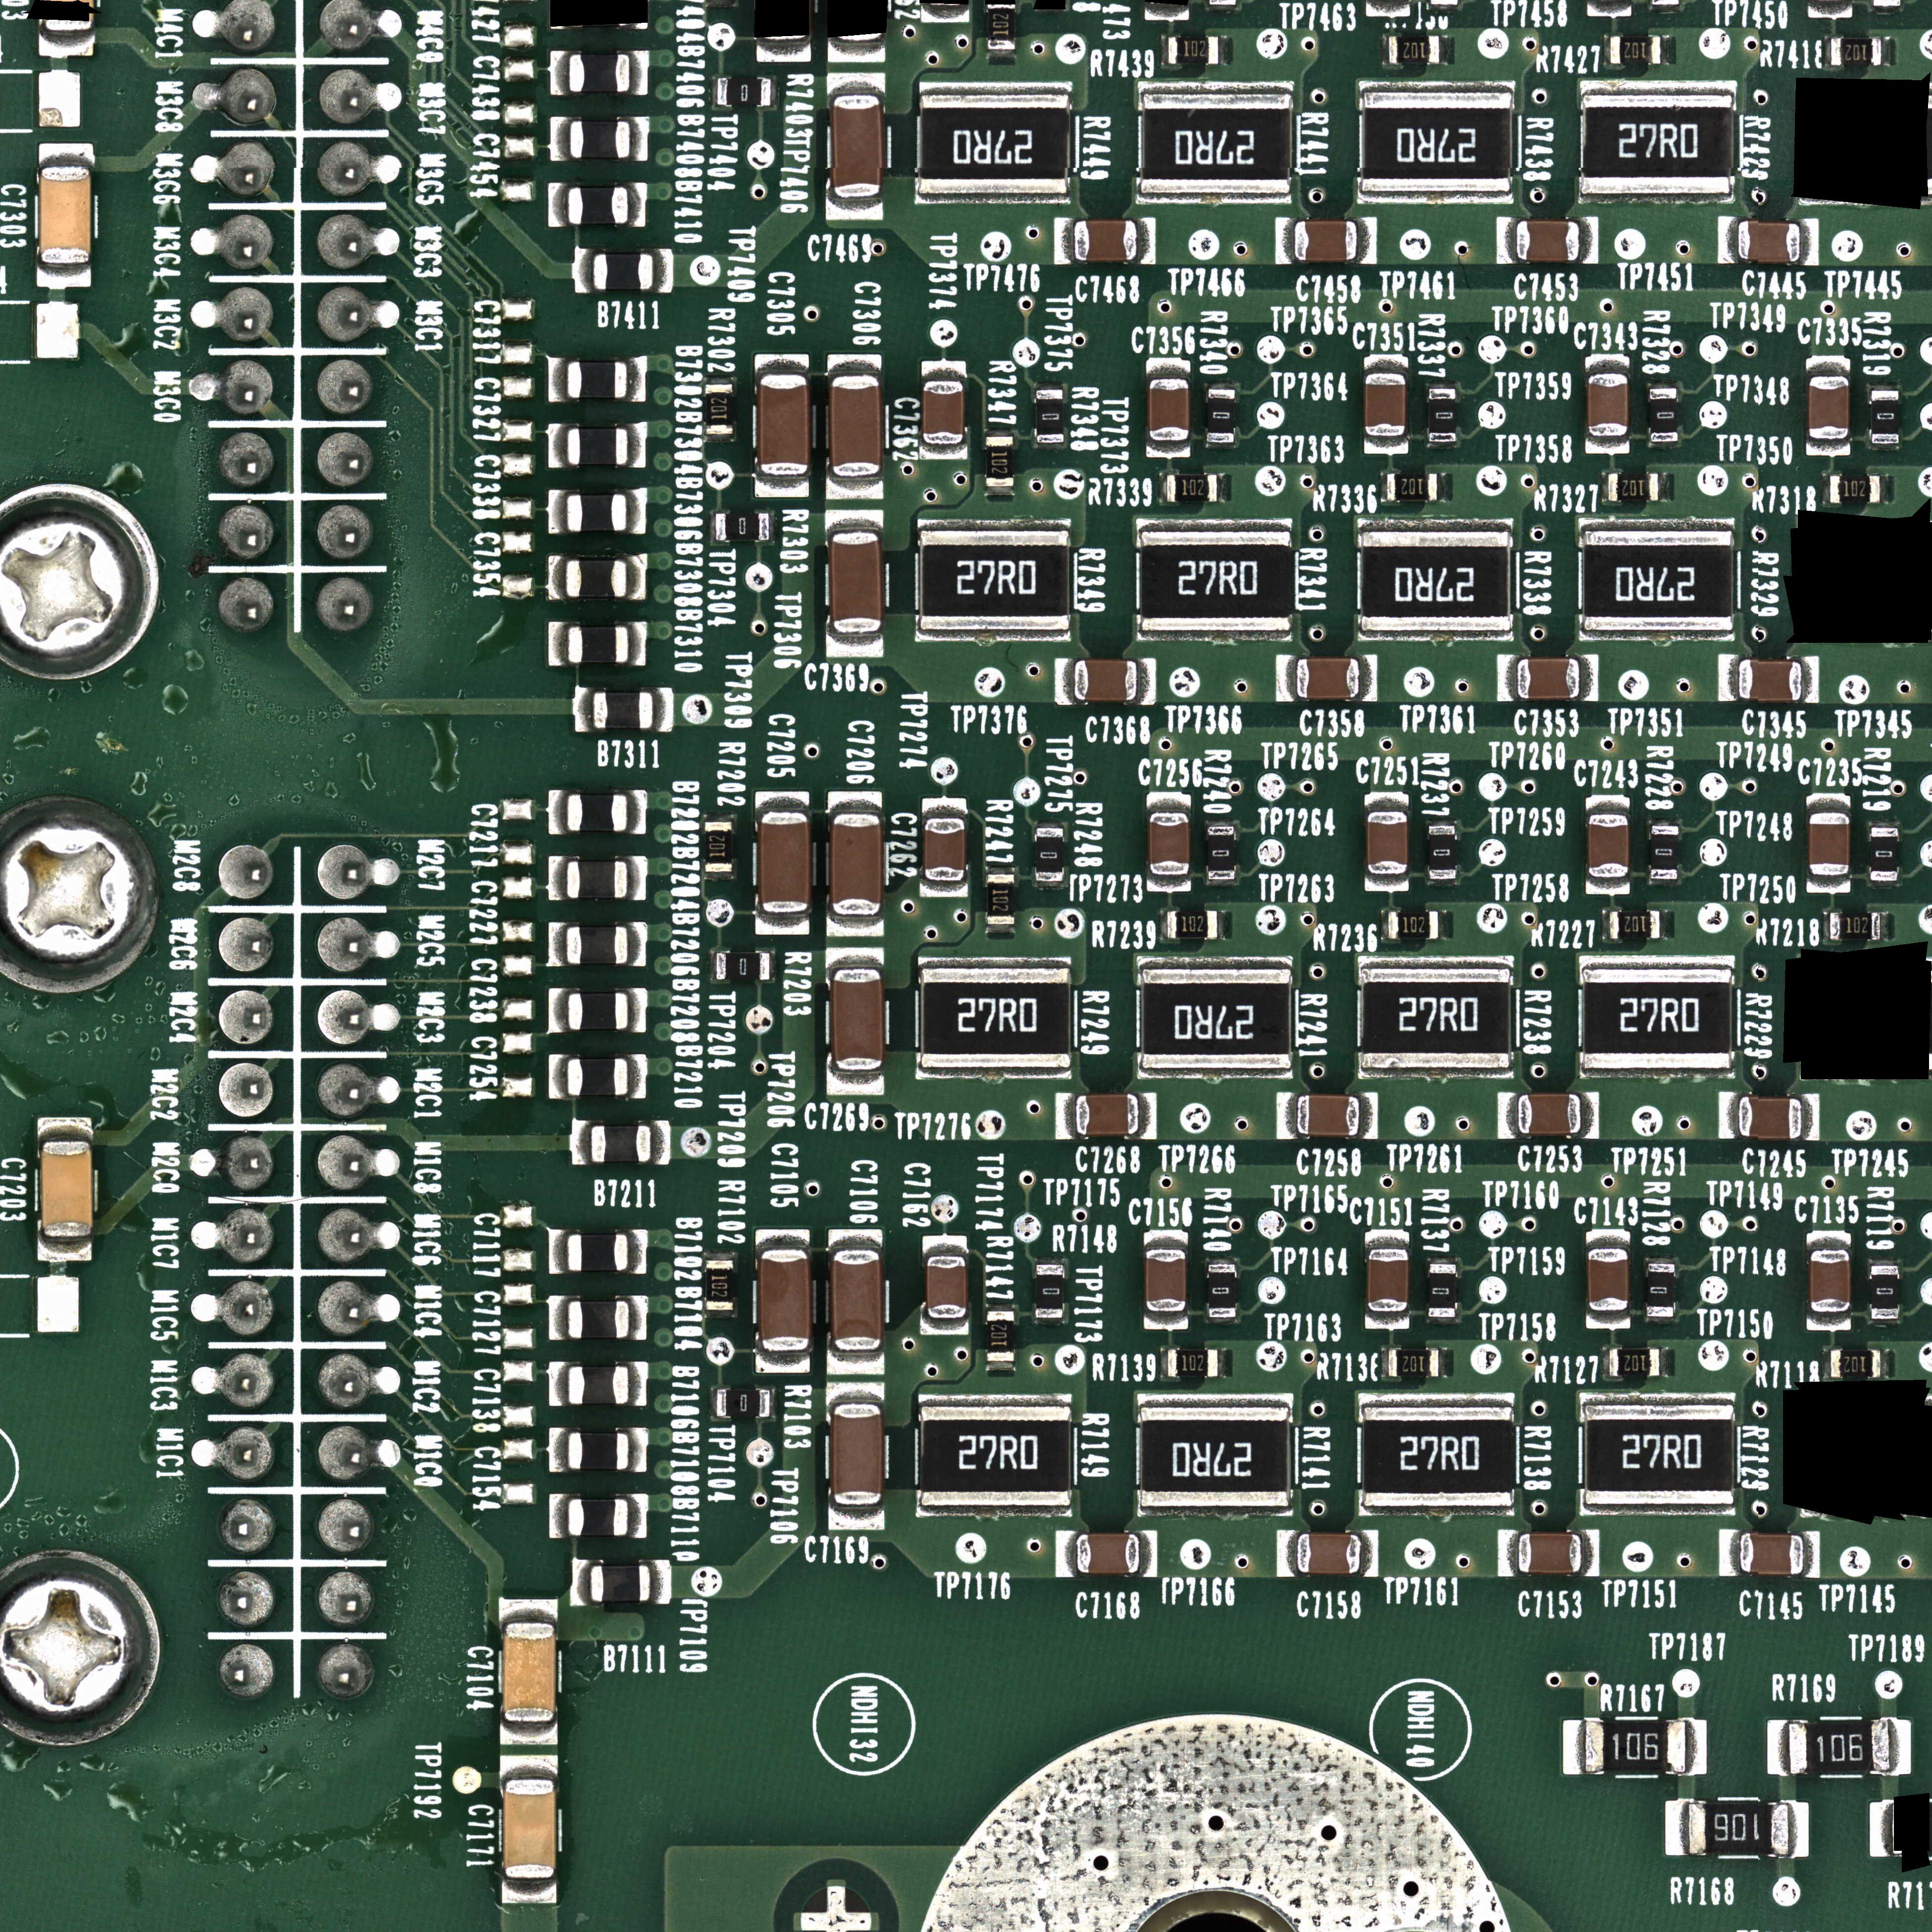Package: (1139, 1407, 1292, 1507), (920, 1405, 1070, 1506), (920, 968, 1070, 1069), (1139, 531, 1292, 630), (1361, 968, 1509, 1069), (1141, 970, 1292, 1069), (1364, 1407, 1514, 1506), (1583, 968, 1730, 1069), (1585, 1405, 1734, 1504), (920, 531, 1070, 628), (1361, 533, 1511, 630), (1582, 531, 1730, 628), (1583, 1720, 1686, 1773), (830, 531, 883, 633), (1789, 1721, 1890, 1773), (832, 970, 883, 1070), (761, 812, 810, 915), (39, 1141, 92, 1237), (502, 1782, 556, 1877), (502, 1624, 556, 1720), (759, 375, 809, 476), (759, 1251, 809, 1352), (833, 1405, 883, 1506), (832, 816, 881, 915), (1688, 1805, 1790, 1852), (37, 168, 88, 262), (832, 377, 879, 476), (833, 1251, 881, 1350), (924, 819, 966, 881), (1810, 1249, 1851, 1313), (1808, 810, 1849, 874), (1074, 219, 1138, 260), (1516, 221, 1580, 262), (925, 1258, 968, 1318), (1366, 373, 1407, 435), (1808, 375, 1849, 437), (1587, 1249, 1628, 1311), (1589, 814, 1629, 876), (1145, 1251, 1187, 1309), (1150, 377, 1189, 441), (1518, 1534, 1582, 1573), (1297, 1534, 1361, 1573), (1076, 1095, 1139, 1134), (1293, 221, 1357, 260), (1295, 658, 1359, 697), (924, 380, 962, 442), (1368, 810, 1407, 872), (1077, 1534, 1139, 1573), (1518, 1095, 1580, 1134), (1518, 658, 1580, 697), (1368, 1251, 1408, 1309), (1074, 662, 1138, 699), (568, 55, 632, 92), (1589, 375, 1628, 435), (1150, 812, 1189, 872), (566, 862, 628, 899), (593, 253, 655, 290), (1297, 1097, 1359, 1134), (568, 428, 628, 465), (568, 993, 628, 1030), (568, 1499, 628, 1536), (568, 188, 628, 225), (591, 1125, 651, 1162), (568, 1431, 628, 1468), (568, 1368, 630, 1403), (568, 1302, 630, 1338), (591, 1566, 649, 1603), (566, 561, 626, 596), (568, 1235, 628, 1270), (568, 1060, 628, 1095), (568, 363, 628, 398), (570, 122, 630, 157), (593, 694, 653, 729), (568, 626, 628, 662), (568, 796, 626, 832), (568, 495, 626, 531), (568, 927, 626, 962), (1208, 1263, 1237, 1318), (1207, 389, 1235, 442), (1207, 826, 1235, 879), (1037, 828, 1065, 881), (717, 1389, 770, 1417), (1651, 389, 1679, 442), (1428, 824, 1456, 878), (1647, 1263, 1675, 1316), (1428, 1263, 1456, 1316), (715, 954, 770, 980), (1872, 391, 1900, 442), (985, 437, 1014, 488), (1829, 1350, 1881, 1378), (1829, 474, 1881, 502), (1651, 826, 1679, 878), (1608, 472, 1660, 501), (1870, 828, 1897, 881), (1037, 1265, 1063, 1318), (717, 78, 770, 104), (715, 513, 768, 540), (1430, 389, 1456, 442), (985, 876, 1014, 925), (1610, 1348, 1660, 1376), (1389, 911, 1438, 939), (1387, 472, 1437, 501), (1037, 389, 1063, 441), (987, 1311, 1014, 1362), (1872, 1267, 1898, 1318), (1608, 911, 1660, 938), (706, 382, 732, 433), (1610, 37, 1661, 64), (706, 1260, 732, 1309), (1168, 911, 1217, 938), (1389, 37, 1438, 64), (1389, 1350, 1440, 1375), (1168, 37, 1219, 62), (704, 823, 731, 870), (1169, 1350, 1219, 1375), (1831, 913, 1881, 938), (1168, 476, 1217, 501), (1831, 39, 1881, 64)
Solder: (1580, 80, 1737, 94), (915, 628, 1072, 642), (1357, 1392, 1514, 1407), (1138, 81, 1295, 94), (1359, 80, 1516, 92), (1578, 517, 1736, 529), (1357, 518, 1514, 531), (1136, 957, 1293, 970), (915, 1506, 1072, 1518), (1580, 1392, 1737, 1405), (915, 193, 1070, 205), (1136, 193, 1292, 205), (1357, 630, 1513, 642), (1138, 630, 1293, 642), (1359, 1067, 1514, 1079), (1359, 955, 1514, 968), (1580, 955, 1736, 968), (1138, 1394, 1293, 1407), (1580, 1504, 1736, 1516), (920, 81, 1074, 94), (1580, 628, 1734, 640), (918, 518, 1072, 531), (918, 955, 1072, 968), (1578, 193, 1736, 203), (1136, 1069, 1293, 1079), (1134, 193, 1290, 203), (1357, 193, 1513, 203), (1136, 518, 1292, 529), (916, 1069, 1072, 1079), (1580, 1069, 1736, 1079), (1359, 1506, 1514, 1516), (826, 1070, 885, 1095), (826, 633, 885, 658), (499, 1599, 557, 1624), (37, 1116, 94, 1141), (826, 73, 886, 96), (824, 198, 885, 221), (1138, 1507, 1293, 1516), (501, 1879, 556, 1904), (39, 32, 94, 57), (920, 1394, 1072, 1403), (826, 1382, 885, 1405), (826, 1352, 885, 1375), (37, 264, 90, 288), (830, 1506, 883, 1530), (37, 1237, 90, 1261), (826, 476, 883, 499), (501, 1757, 557, 1780), (828, 791, 883, 814), (39, 143, 94, 166), (824, 510, 883, 531), (826, 916, 885, 938), (1870, 1799, 1891, 1858), (828, 41, 885, 62), (755, 41, 812, 62), (824, 948, 885, 968), (1686, 1720, 1707, 1775), (755, 1230, 810, 1251), (828, 1230, 883, 1251), (755, 791, 810, 812), (1562, 1720, 1583, 1775), (501, 1723, 556, 1744), (755, 1352, 809, 1373), (1891, 1720, 1911, 1776), (826, 356, 883, 375), (1767, 1720, 1787, 1775), (1665, 1801, 1684, 1854), (1790, 1803, 1810, 1856), (755, 354, 809, 373), (755, 478, 809, 497), (924, 1235, 968, 1258), (1054, 1530, 1076, 1578), (570, 1120, 591, 1166), (922, 796, 968, 817), (755, 916, 810, 934), (547, 425, 568, 469), (1718, 1530, 1739, 1575), (571, 1559, 591, 1606), (1277, 1092, 1297, 1139), (626, 488, 646, 534), (628, 1493, 648, 1539), (1718, 1092, 1737, 1138), (573, 246, 593, 292), (573, 686, 593, 732), (548, 1493, 568, 1539), (1054, 658, 1074, 704), (1499, 1530, 1518, 1576), (920, 1318, 970, 1336), (547, 789, 566, 833), (547, 357, 566, 402), (1497, 656, 1516, 701), (1276, 656, 1295, 701), (1145, 1311, 1189, 1330), (626, 856, 646, 901), (626, 556, 646, 600), (1359, 1532, 1378, 1576), (922, 361, 966, 380), (1718, 218, 1737, 262), (1277, 1532, 1297, 1576), (1146, 359, 1191, 379), (1587, 1309, 1631, 1329), (1582, 1092, 1599, 1139), (1582, 1529, 1599, 1576), (1054, 218, 1072, 265), (920, 442, 968, 460), (1366, 1311, 1408, 1330), (651, 1560, 671, 1603), (1276, 218, 1293, 264), (1359, 218, 1376, 264), (628, 356, 646, 402), (1361, 1093, 1378, 1139), (1138, 218, 1155, 264), (1499, 1093, 1516, 1139), (1497, 218, 1514, 264), (632, 50, 649, 96), (1138, 658, 1155, 704), (1056, 1092, 1074, 1138), (1580, 218, 1598, 264), (1806, 1313, 1852, 1330), (1139, 1530, 1157, 1576), (1720, 655, 1737, 701), (630, 1428, 648, 1472), (1359, 656, 1376, 701), (548, 1054, 566, 1099), (628, 1230, 646, 1274), (548, 1295, 566, 1339), (548, 856, 566, 901), (548, 182, 566, 226), (1364, 437, 1408, 455), (628, 989, 646, 1033), (548, 1428, 566, 1472), (550, 1230, 568, 1274), (548, 490, 566, 534), (550, 51, 568, 96), (628, 423, 646, 467), (1801, 219, 1819, 264), (630, 1362, 648, 1407), (550, 989, 568, 1033), (1585, 435, 1629, 453), (1806, 439, 1851, 456), (1580, 656, 1598, 701), (548, 556, 566, 600), (1806, 357, 1851, 375), (1364, 793, 1408, 810), (1803, 1532, 1821, 1576), (1806, 794, 1851, 812), (1585, 796, 1629, 814), (1366, 874, 1410, 892), (1806, 1231, 1851, 1249), (1146, 874, 1191, 892), (628, 924, 646, 966), (628, 791, 646, 833), (628, 623, 646, 665), (628, 1056, 646, 1099), (548, 623, 566, 665), (655, 688, 672, 731), (550, 1362, 568, 1405), (653, 1122, 671, 1164), (655, 249, 672, 292), (1148, 793, 1191, 810), (1364, 356, 1407, 373), (632, 115, 648, 161), (922, 881, 968, 897), (1803, 1093, 1819, 1139), (1585, 878, 1631, 893), (552, 117, 568, 161), (1803, 658, 1819, 702), (630, 182, 646, 226), (1806, 876, 1851, 892), (1585, 1230, 1629, 1246), (1366, 1231, 1410, 1247), (1585, 357, 1629, 373), (1146, 441, 1191, 456), (630, 1297, 646, 1339), (1145, 1231, 1187, 1247), (548, 924, 564, 964), (1141, 1093, 1155, 1138), (987, 50, 1016, 64), (1438, 909, 1451, 938), (984, 924, 1016, 934), (1819, 472, 1829, 504), (1879, 913, 1891, 939), (1438, 1348, 1451, 1375), (1217, 1348, 1228, 1378), (985, 1362, 1016, 1373), (768, 511, 778, 541), (1881, 1350, 1891, 1378), (1438, 37, 1449, 65), (1217, 911, 1228, 939), (1881, 474, 1891, 502), (1217, 474, 1228, 502), (1660, 1348, 1670, 1376), (1870, 5, 1904, 14), (1881, 37, 1891, 64), (985, 865, 1017, 874), (1660, 472, 1668, 502), (704, 433, 734, 442), (1035, 819, 1065, 828), (1035, 881, 1065, 890), (1219, 35, 1228, 64), (1438, 472, 1447, 501), (985, 487, 1014, 495), (1661, 35, 1670, 64), (985, 428, 1014, 437), (1159, 1348, 1168, 1376), (1210, 4, 1237, 12), (1824, 35, 1831, 67), (1033, 442, 1065, 449), (1868, 384, 1900, 391), (702, 814, 734, 821), (1645, 1256, 1677, 1263), (1426, 1316, 1458, 1323), (1205, 1316, 1237, 1323), (1426, 879, 1458, 886), (1035, 382, 1065, 389), (1205, 382, 1235, 389), (1205, 442, 1235, 449), (1428, 382, 1458, 389), (1649, 382, 1679, 389), (1380, 472, 1387, 502), (1601, 472, 1608, 502), (1161, 472, 1168, 502), (704, 872, 734, 879), (1822, 911, 1829, 941), (704, 1253, 734, 1260), (704, 1311, 734, 1318), (985, 1304, 1016, 1311), (1822, 1348, 1829, 1378), (1382, 1348, 1389, 1378), (1870, 1258, 1900, 1265), (1870, 1318, 1900, 1325), (1428, 1256, 1458, 1263), (1205, 879, 1235, 886), (1207, 819, 1237, 826), (1428, 817, 1458, 824), (1649, 879, 1679, 886), (1649, 817, 1679, 824), (1161, 911, 1168, 939), (1161, 35, 1168, 64), (706, 375, 734, 382), (1660, 911, 1667, 939), (1380, 911, 1387, 939), (1651, 5, 1679, 12), (1037, 5, 1065, 12), (1431, 7, 1458, 14), (1382, 34, 1387, 65), (1426, 442, 1458, 448), (770, 950, 775, 982), (709, 950, 715, 982), (711, 1387, 717, 1419), (1644, 1316, 1675, 1322), (1868, 821, 1900, 826), (1603, 35, 1608, 65), (1649, 442, 1679, 448), (1870, 444, 1900, 449), (709, 511, 715, 541), (1207, 1258, 1237, 1263), (1868, 881, 1898, 886), (1603, 911, 1608, 939), (1603, 1348, 1608, 1376), (1037, 1318, 1063, 1323), (1037, 1260, 1063, 1265), (713, 76, 717, 108), (771, 1387, 775, 1419), (771, 78, 775, 106)
